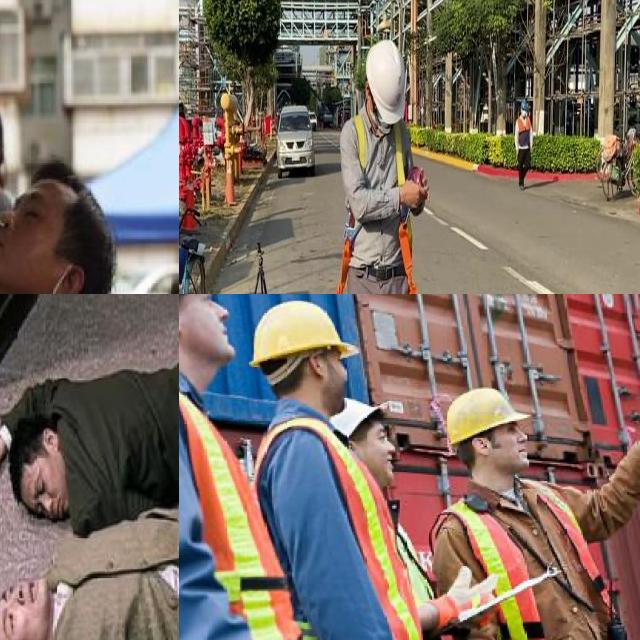Harness: (399, 222, 417, 294), (336, 237, 352, 294)
No_Ear-Protection: (306, 350, 327, 381), (470, 435, 494, 460)
face_nomask: (0, 182, 57, 289), (0, 567, 54, 640), (22, 460, 79, 526), (186, 303, 236, 361), (358, 443, 395, 490), (500, 431, 530, 469)
head_helmet: (251, 301, 357, 367), (446, 389, 527, 444)
head_nohelmet: (42, 148, 121, 259)
person: (0, 357, 179, 540), (0, 149, 165, 294), (0, 535, 179, 640)
